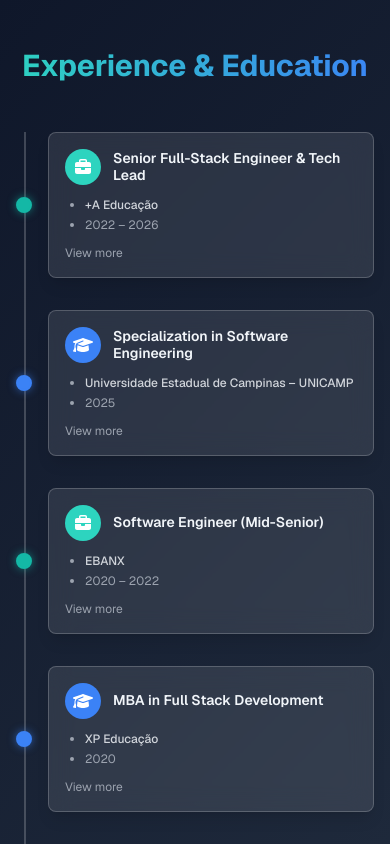
it: Timeline › opens modal with details when a timeline item is clicked
The image size is (390, 844).
Click the 1st text "View more" at {"x": 94, "y": 253}, box [65,245,123,261]
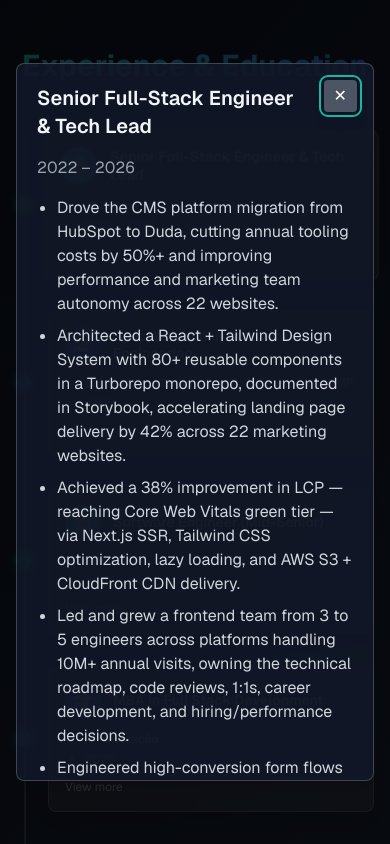
Now the dialog is shown
Now the button named "close" is shown, box [324,80,357,112]
